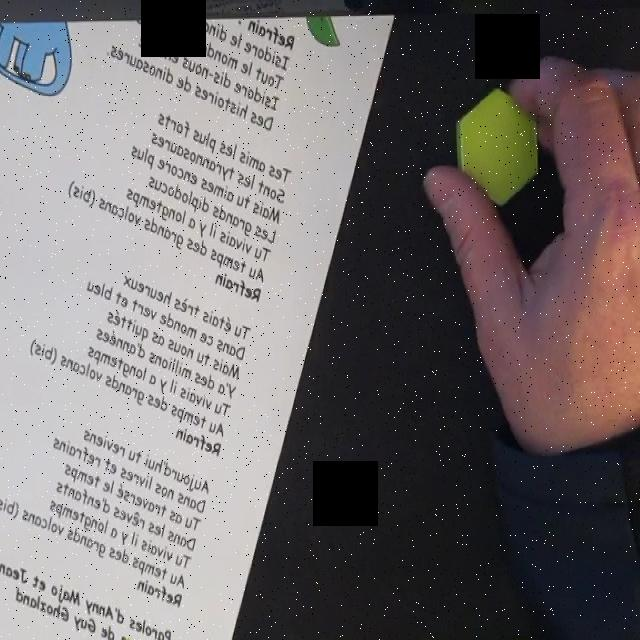hexagon: (455, 85, 541, 208)
